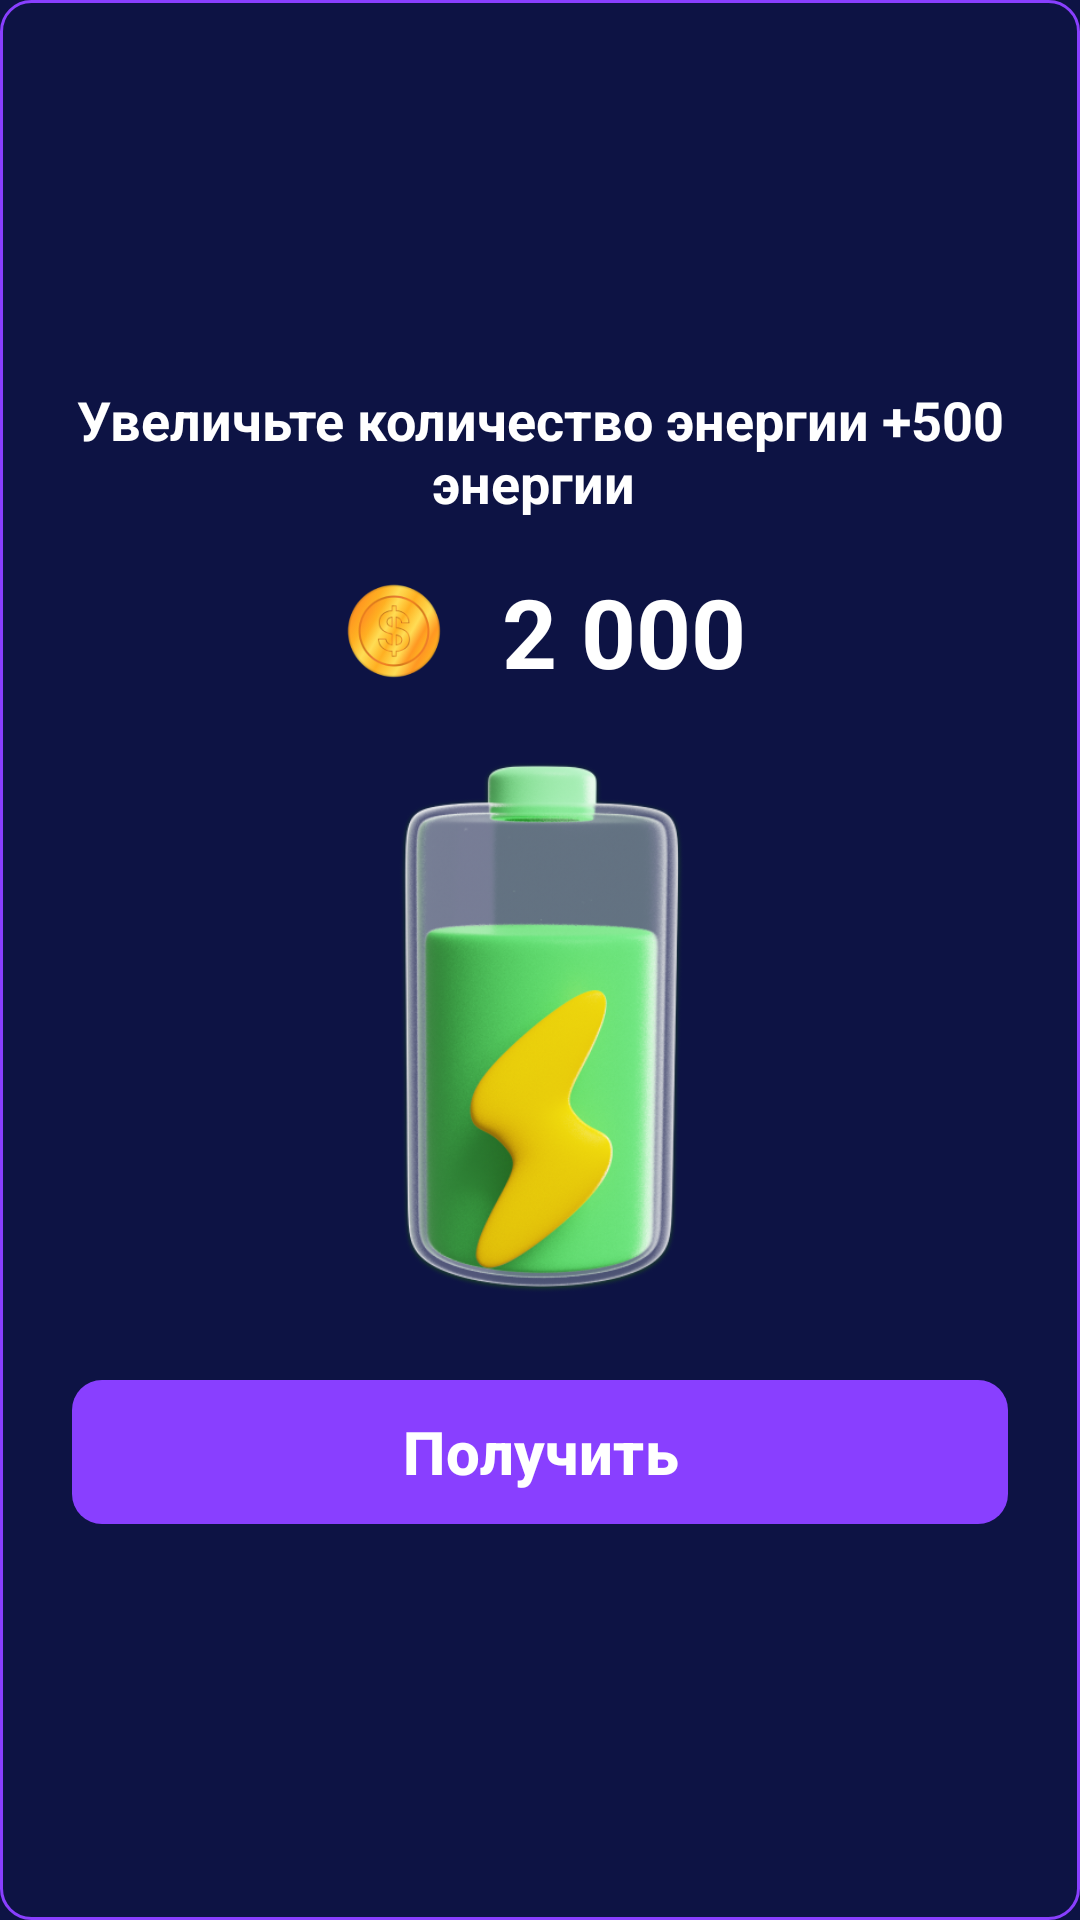

Named icons in this screenshot (1080w x 1920h) and their bounding boxes, (x1, y1, x2, y2):
coin: (347, 584, 440, 677)
